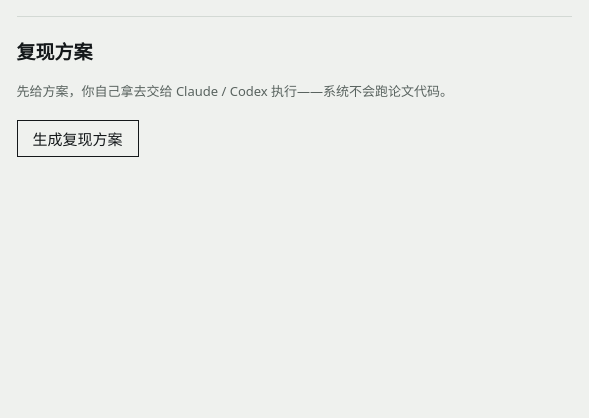
Test: ReproPanel › 点击后轮询完成，展示证据等级、成本区间与缺失信息
Click the button "生成复现方案" at (78, 138), box [16, 120, 138, 157]
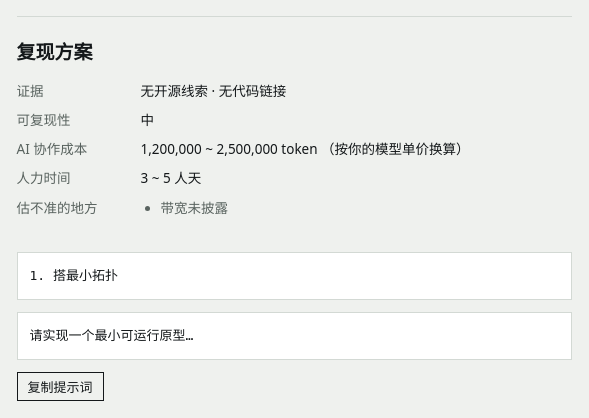
Now the text "无开源线索 · 无代码链接" is shown, box [140, 82, 286, 100]
Now the text "1,200,000 ~ 2,500,000 token （按你的模型单价换算）" is shown, box [140, 140, 470, 158]
Now the text "3 ~ 5 人天" is shown, box [140, 169, 201, 187]
